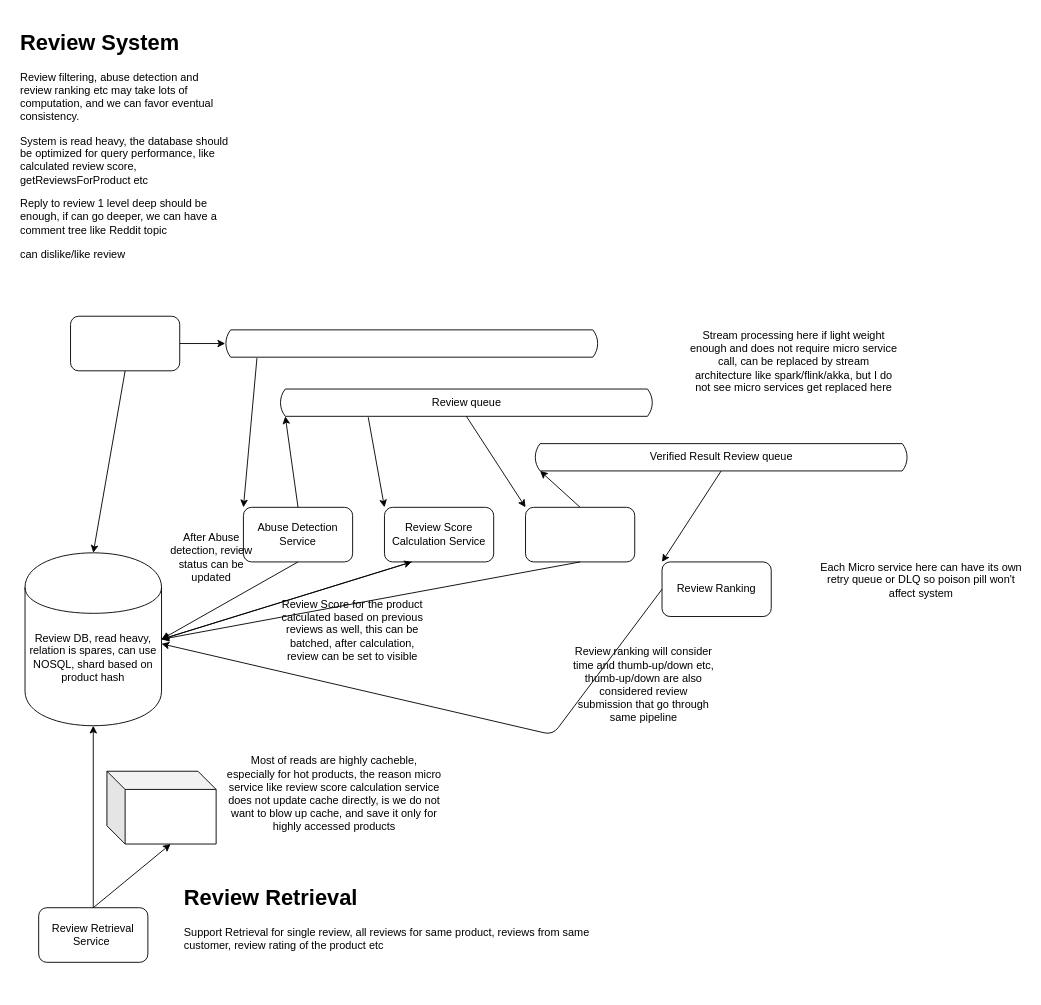
This 1041x1005 diagram has some shape labels left out. Each missing label, with the centre of its shape:
Distributed Cache: the point at 161,807
Purchase Verification Service: the point at 580,534
Review Submission queue: the point at 411,343
Review Submission Service: the point at 125,343
